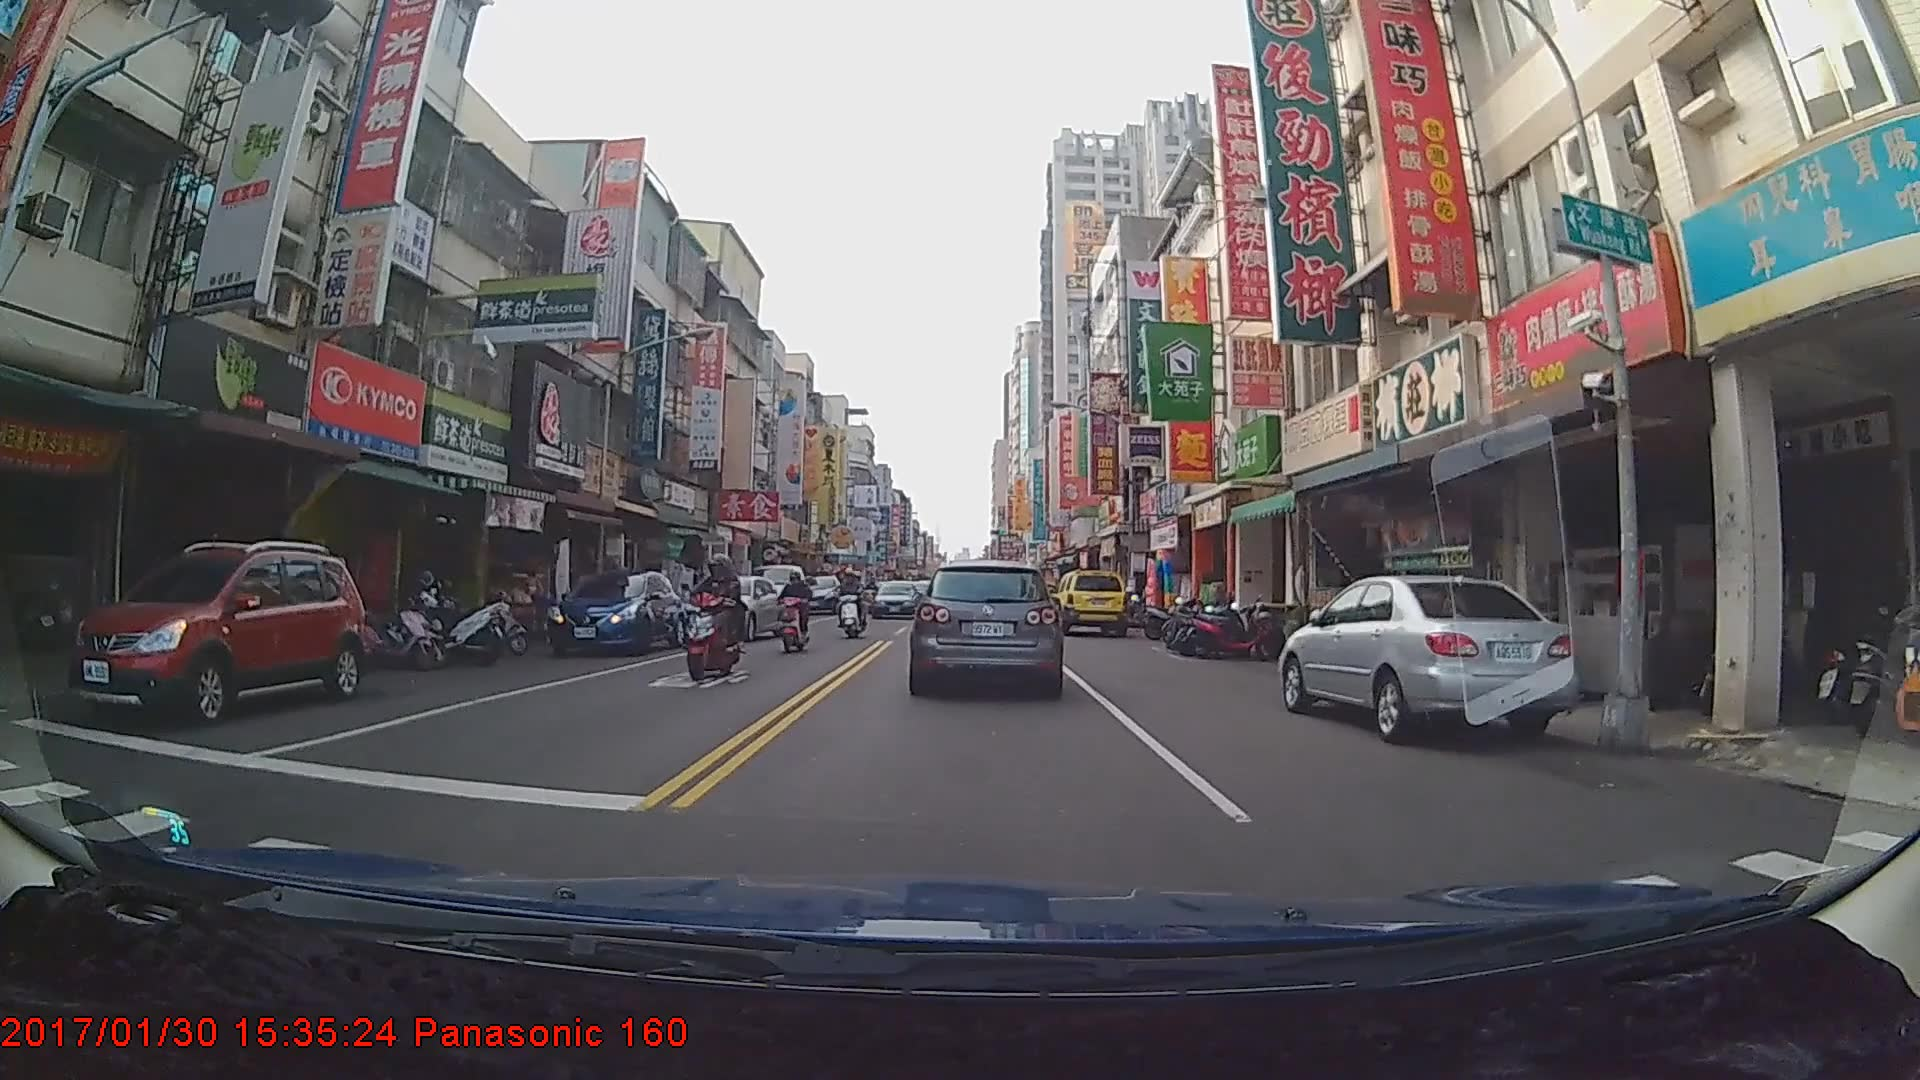rider: (682, 550, 749, 689), (775, 568, 813, 653), (833, 574, 868, 647)
vehicle: (66, 541, 361, 724), (1275, 571, 1580, 745), (913, 558, 1059, 696), (543, 569, 687, 656), (674, 574, 788, 641), (1049, 566, 1130, 635), (749, 564, 807, 620), (868, 579, 924, 619)
